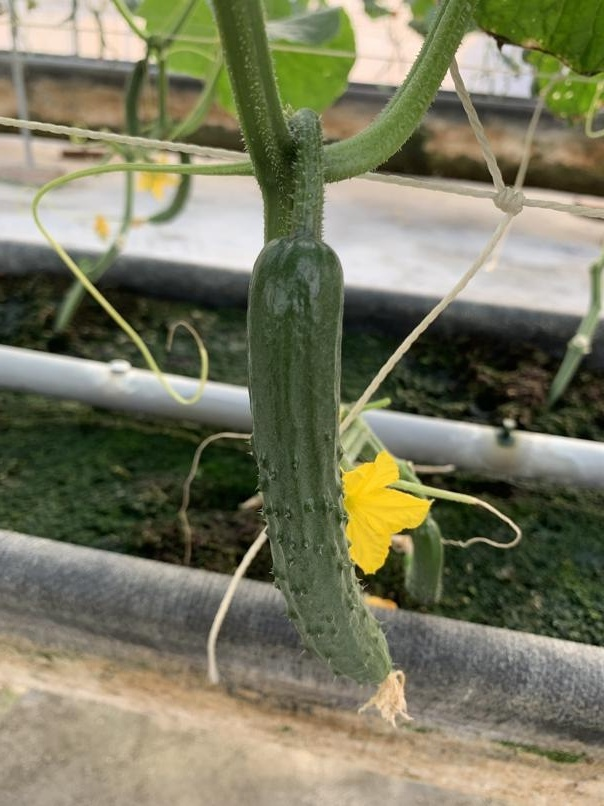mature: (235, 226, 421, 729)
